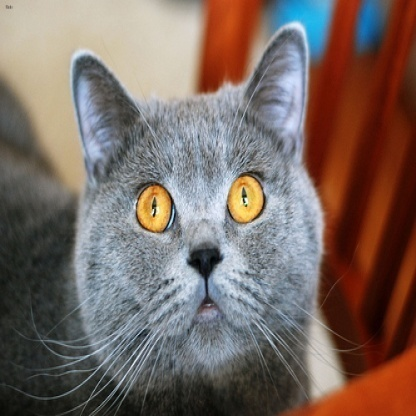british_shorthair: (1, 22, 322, 414)
